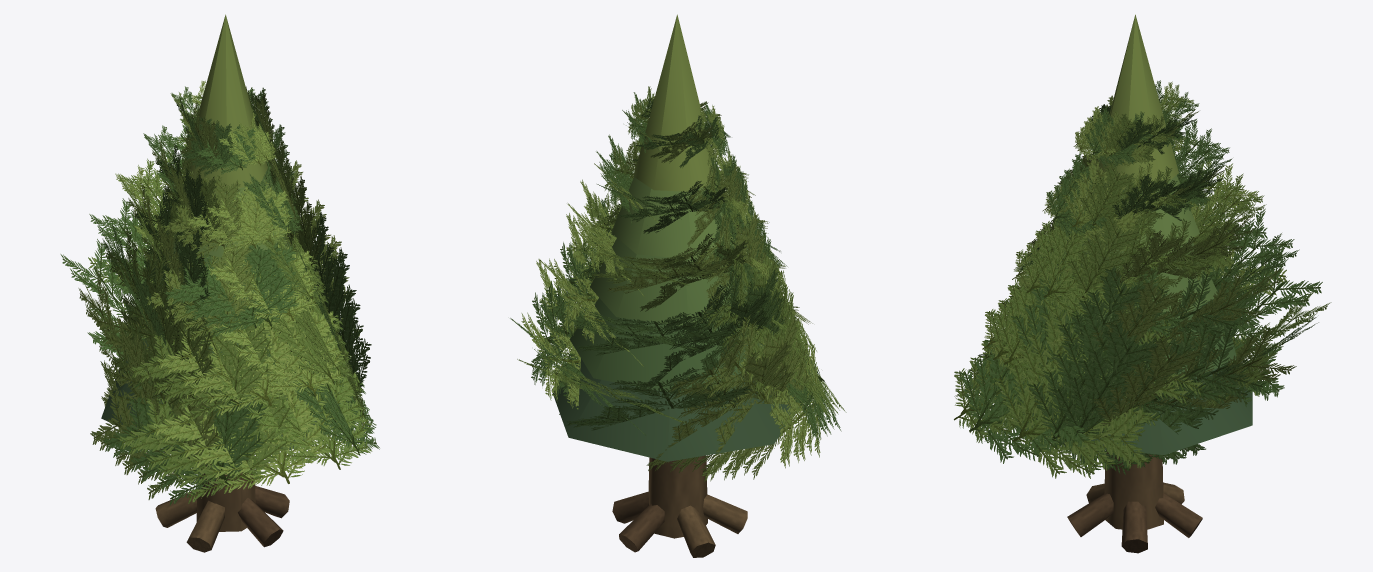
Rendered from pine.glb.
3 views of the same model, side by side, from view 1: azimuth 30°, elevation 25°; view 2: azimuth 150°, elevation 25°; view 3: azimuth 270°, elevation 25° (orthographic).
Visible parts, largest first — view 1: pine; view 2: pine; view 3: pine.
Part boxes in pixels (x1,y1,x2,y2): pine: (60, 14, 379, 552); pine: (510, 14, 846, 557); pine: (954, 14, 1331, 553).
Bounding box in the file's own units: 2.68 × 4.58 × 3.59.
Materials: 3 (2 with a texture image).
